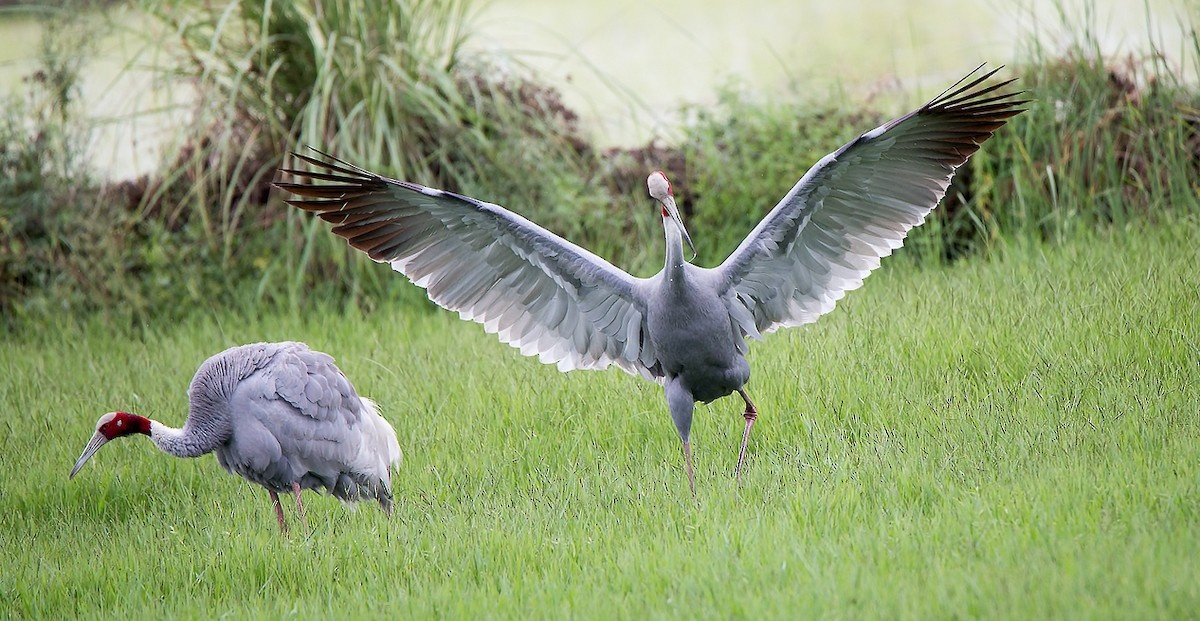crane: (281, 126, 935, 492), (65, 328, 458, 554)
